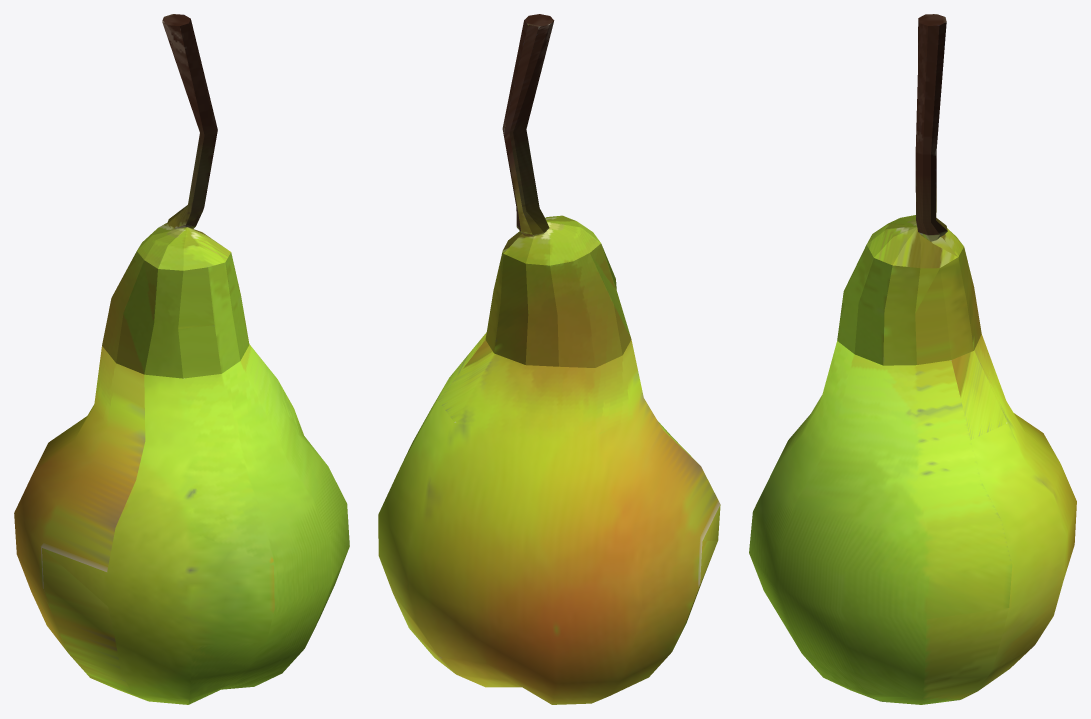
3 renders of one model, left to right at view 1: azimuth 30°, elevation 25°; view 2: azimuth 150°, elevation 25°; view 3: azimuth 270°, elevation 25°, orthographic. The views are drawn at different scales.
Parts seen in each view (by area): view 1: edges; view 2: edges; view 3: edges.
Part boxes in pixels (<box>): edges: <box>14,14,349,704</box>; edges: <box>378,14,720,704</box>; edges: <box>749,14,1076,704</box>.
Size of the model in its own units: 1.95 by 4.22 by 1.9.
1 material, 1 textured.
